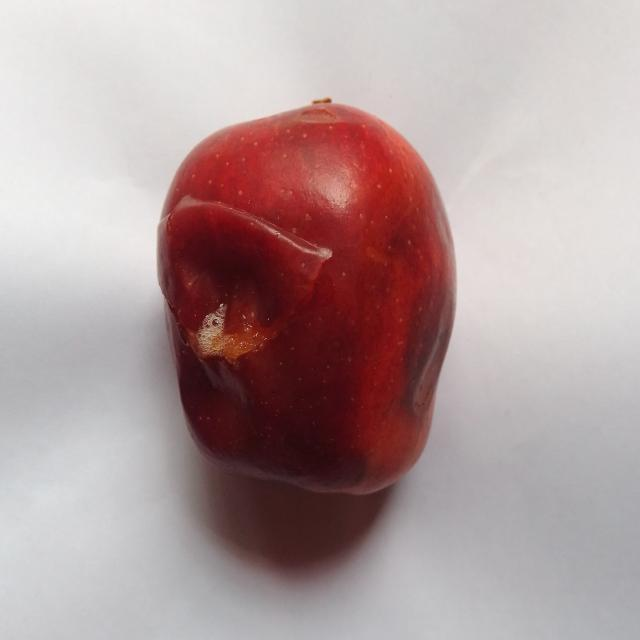apple: (159, 104, 455, 493)
